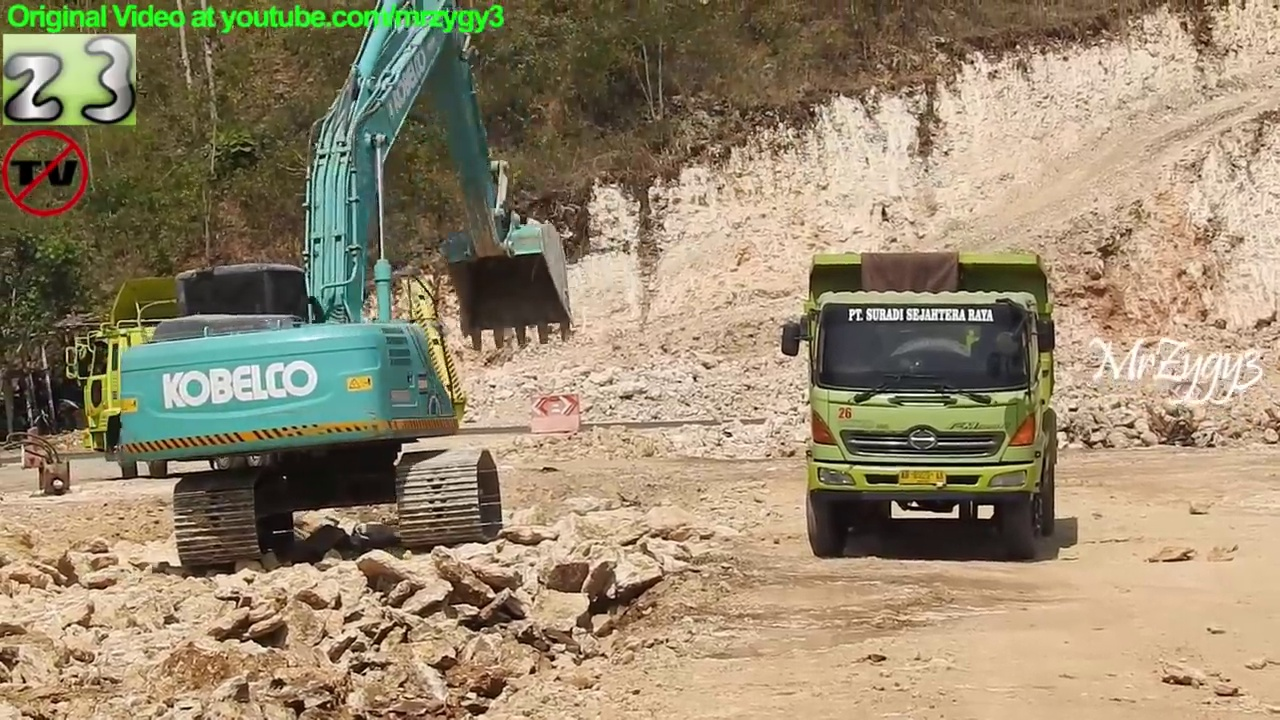excavator: (112, 1, 584, 583)
truck: (777, 247, 1065, 565), (61, 264, 474, 483)
